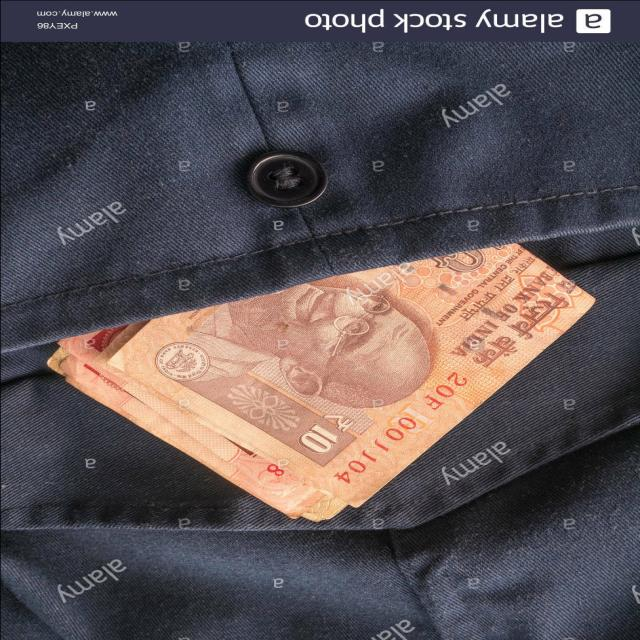10IndianRupees: (127, 227, 597, 516)
